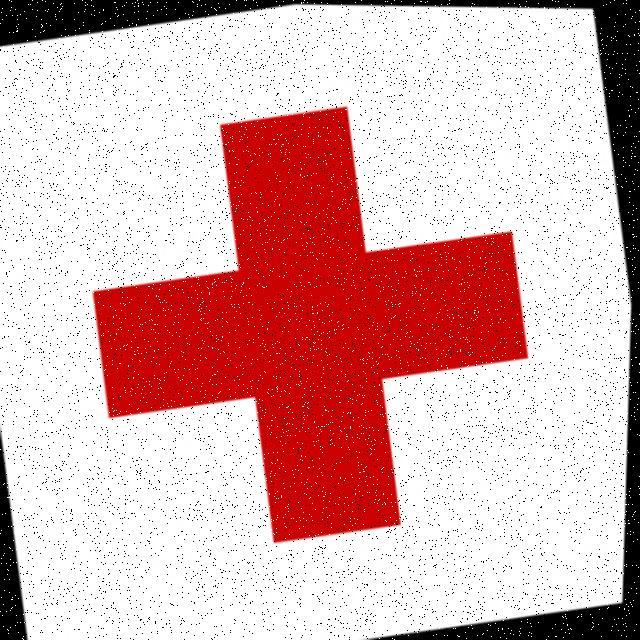cross: (49, 82, 548, 558)
